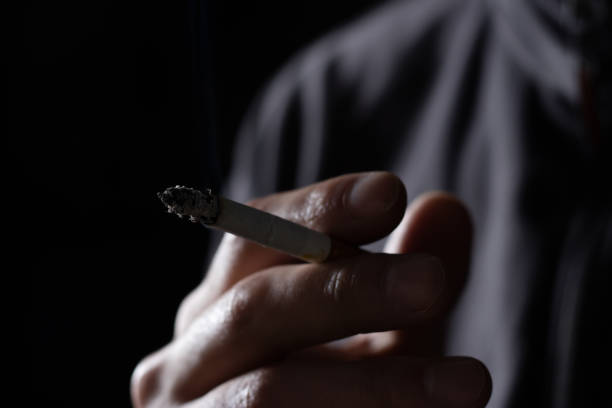cigarette: (160, 184, 374, 263)
